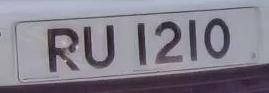0: (199, 12, 237, 63)
1: (125, 18, 154, 72), (184, 14, 201, 66)
2: (150, 15, 186, 66)
R: (41, 23, 83, 76)
U: (79, 21, 121, 74)
